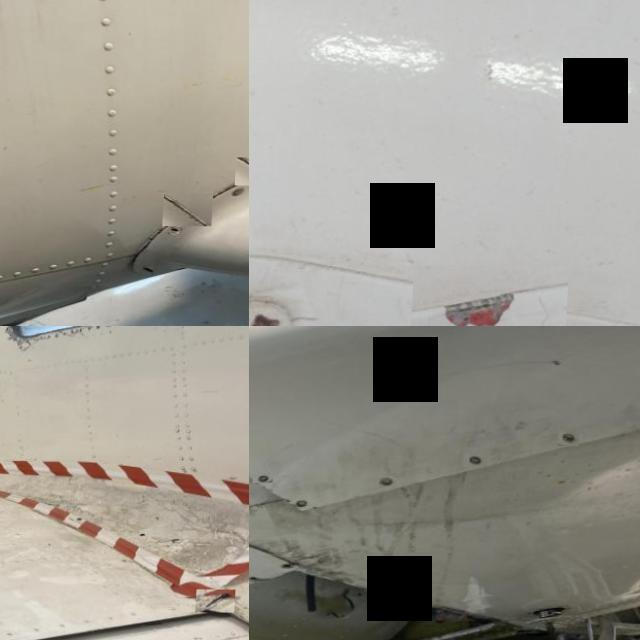Crack: (412, 265, 572, 326), (249, 272, 331, 326), (126, 211, 164, 265), (168, 193, 218, 226), (202, 588, 242, 612)
Missing_Fastener: (560, 429, 582, 445), (466, 452, 490, 466), (296, 497, 314, 509), (380, 477, 400, 487), (256, 473, 276, 482), (284, 562, 300, 570), (252, 574, 264, 584), (174, 226, 186, 234), (148, 266, 160, 274)
